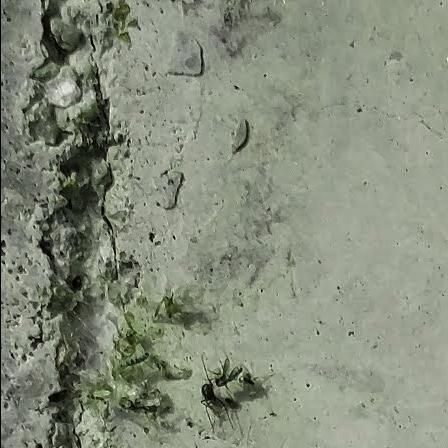crack: (82, 1, 124, 283), (67, 390, 89, 448)
spalling: (0, 0, 137, 394)
